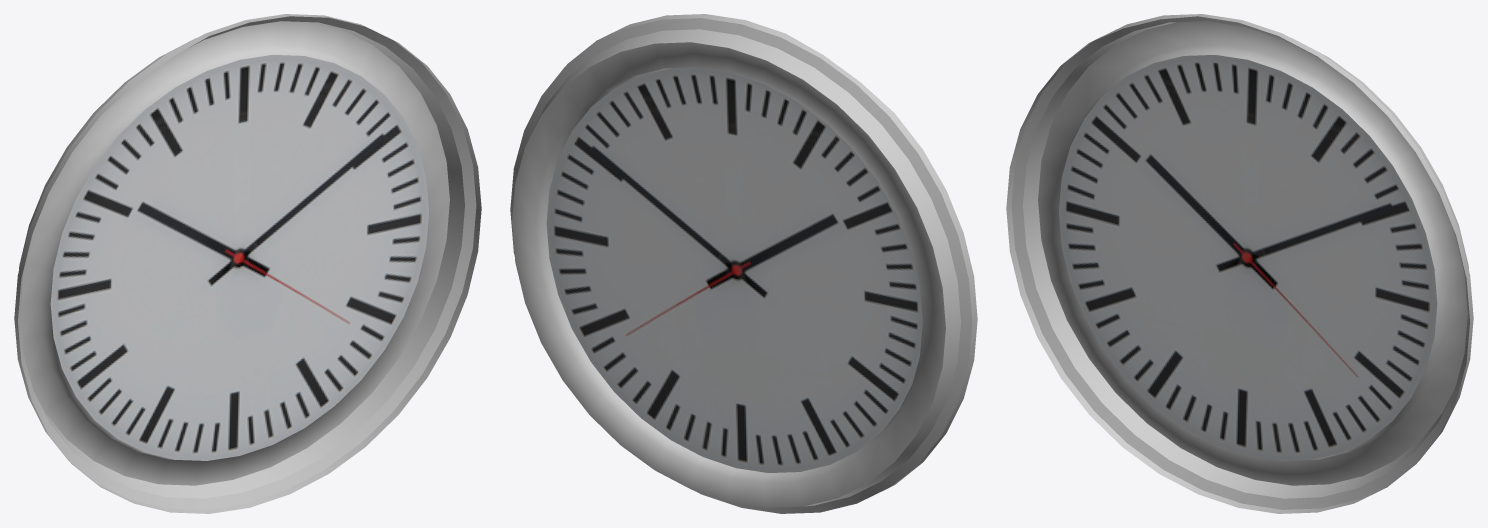
Rendered from Clock.fbx.
The picture shows the model from 3 angles, left to right: view 1: azimuth 30°, elevation 25°; view 2: azimuth 150°, elevation 25°; view 3: azimuth 330°, elevation 25°; orthographic projection.
Parts seen in each view (by area): view 1: Clock; view 2: Clock; view 3: Clock.
Boxes of the visible parts, left/top/right/bottom form: Clock: left=14, top=14, right=481, bottom=513; Clock: left=510, top=14, right=977, bottom=513; Clock: left=1006, top=14, right=1473, bottom=513.
Bounding box in the file's own units: 63.74 × 63.74 × 4.
